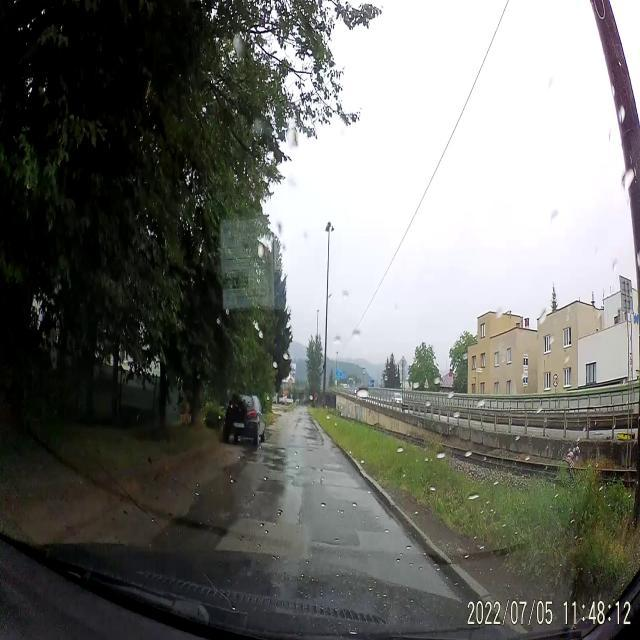Pothole: (306, 530, 346, 552), (311, 462, 348, 478)
